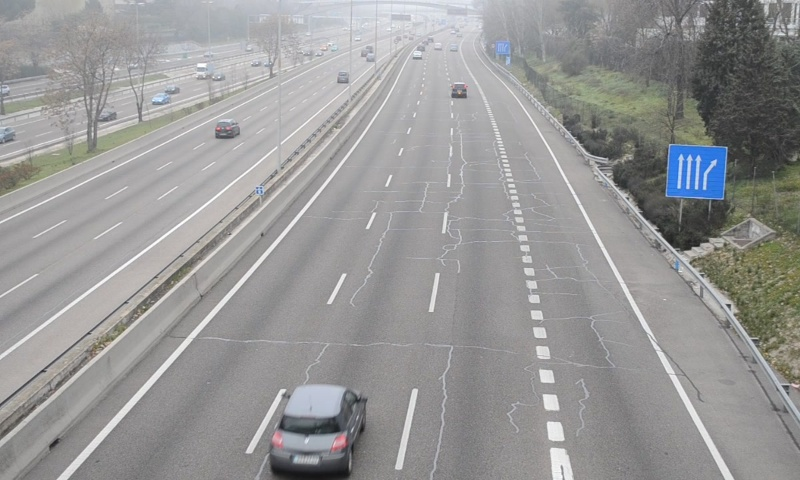car: (270, 384, 367, 472), (450, 81, 468, 98)
